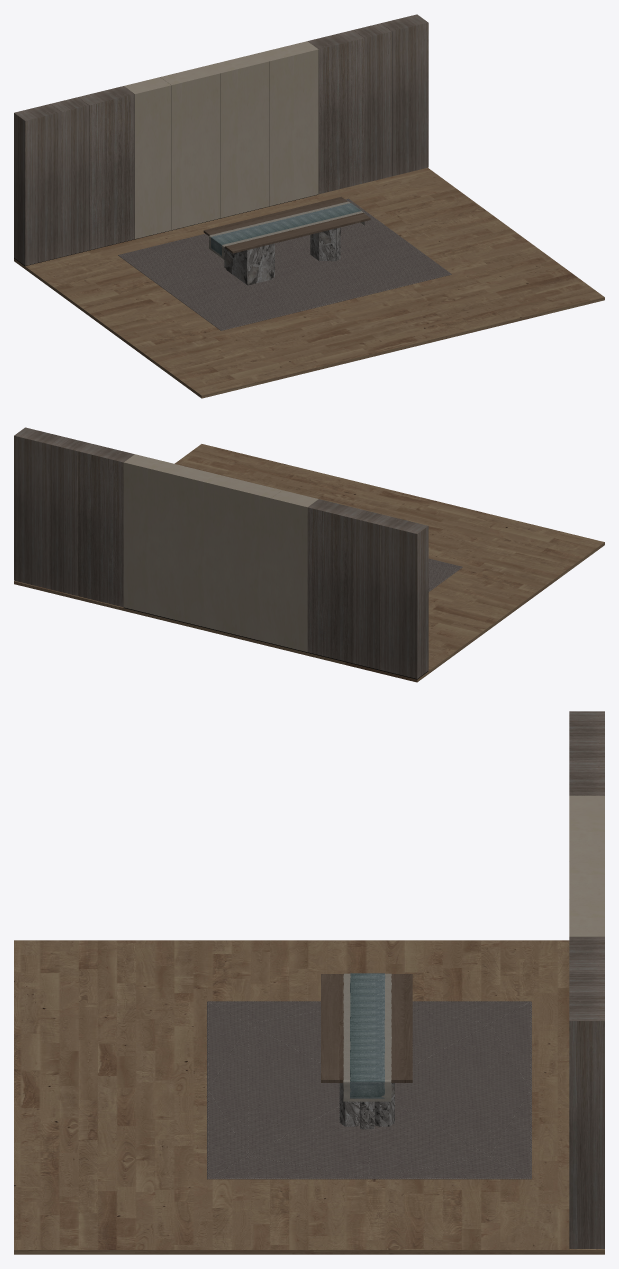
File: chashi.glb
The picture shows the model from 3 angles, top to bottom: view 1: azimuth 30°, elevation 25°; view 2: azimuth 150°, elevation 25°; view 3: azimuth 270°, elevation 25°; orthographic projection. The views are drawn at different scales.
Parts seen in each view (by area): view 1: 茶室_木地板, 茶室_背景墙2, 茶室_背景墙1, 茶室_地毯, 茶室_大理石腿, zhuozi, chaxi1, chaxi2; view 2: 茶室_背景墙2, 茶室_背景墙1, 茶室_木地板, 茶室_地毯, Obj3d66-16684639-15-22; view 3: 茶室_木地板, 茶室_地毯, 茶室_背景墙2, 茶室_背景墙1, zhuozi, chaxi1, chaxi2, 茶室_大理石腿.
Boxes of the visible parts, box(x1,y1,x2,y2) form: 茶室_木地板: box(14, 167, 604, 398); 茶室_背景墙2: box(14, 14, 428, 265); 茶室_背景墙1: box(124, 41, 318, 238); 茶室_地毯: box(118, 198, 451, 330); 茶室_大理石腿: box(224, 227, 340, 285); zhuozi: box(203, 196, 370, 253); chaxi1: box(211, 203, 362, 255); chaxi2: box(209, 201, 364, 259); 茶室_背景墙2: box(14, 427, 428, 678); 茶室_背景墙1: box(123, 454, 318, 652); 茶室_木地板: box(14, 444, 604, 682); 茶室_地毯: box(428, 558, 462, 591); Obj3d66-16684639-15-22: box(123, 607, 428, 679); 茶室_木地板: box(14, 940, 604, 1254); 茶室_地毯: box(207, 1001, 531, 1179); 茶室_背景墙2: box(569, 711, 604, 1248); 茶室_背景墙1: box(569, 795, 604, 936); zhuozi: box(321, 974, 412, 1082); chaxi1: box(350, 973, 385, 1098); chaxi2: box(343, 973, 391, 1101); 茶室_大理石腿: box(339, 1083, 394, 1129).
Size of the model in its own units: 7.22 by 2.54 by 5.82.
9 materials, 8 textured.
